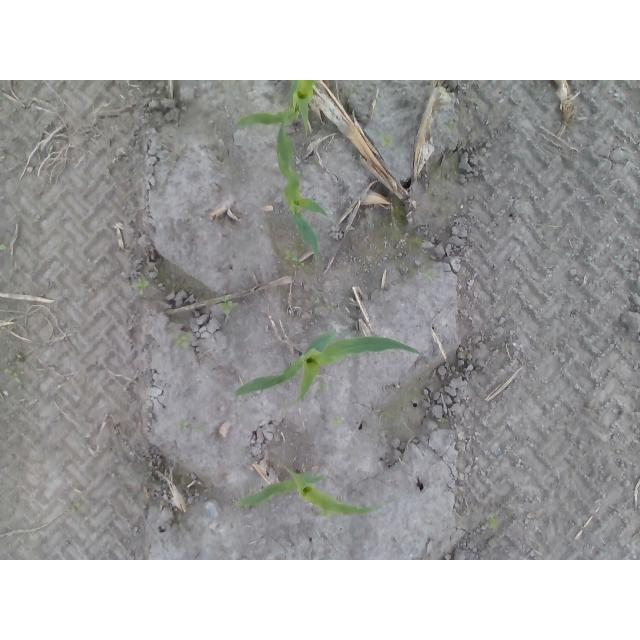Maize: (233, 330, 421, 404), (235, 466, 398, 516), (274, 118, 330, 262), (233, 80, 320, 136)
Weeds: (218, 295, 239, 317), (284, 248, 305, 268), (131, 277, 150, 296), (172, 332, 192, 350), (5, 368, 23, 384), (379, 132, 396, 148), (316, 508, 338, 519), (485, 512, 499, 529), (175, 419, 189, 433), (423, 267, 437, 279), (332, 415, 345, 426), (68, 499, 81, 510), (445, 121, 457, 132), (317, 383, 327, 392), (193, 424, 203, 432), (328, 304, 337, 312), (301, 463, 307, 474), (438, 417, 449, 423), (241, 449, 248, 457), (1, 243, 8, 249)
